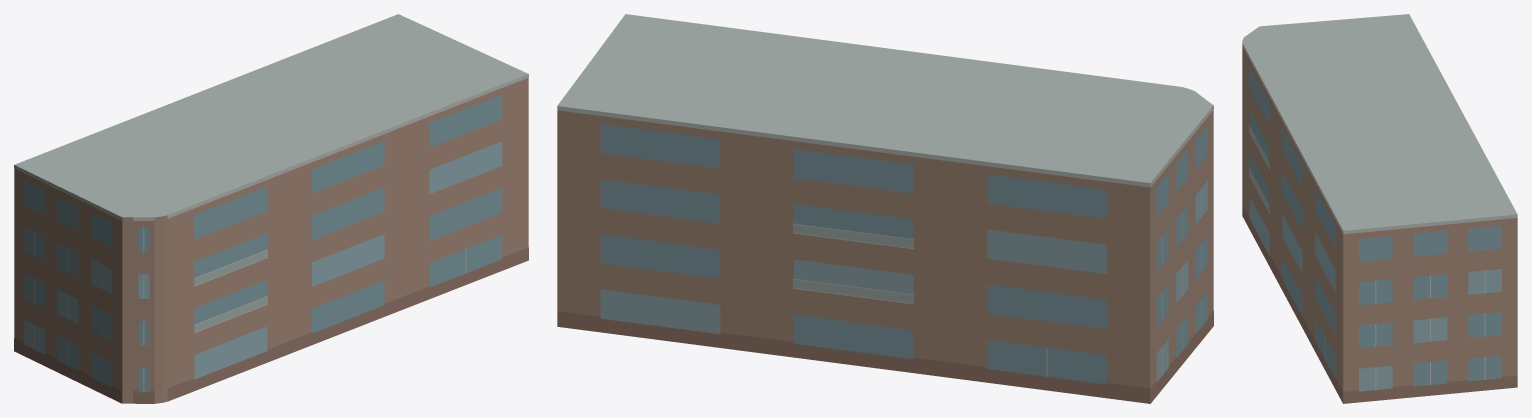
Rendered from survey-upis-33045731.glb.
3 renders of one model, left to right at view 1: azimuth 30°, elevation 25°; view 2: azimuth 150°, elevation 25°; view 3: azimuth 270°, elevation 25°, orthographic. The views are drawn at different scales.
Visible parts, largest first — view 1: survey-upis-33045731.tmp; view 2: survey-upis-33045731.tmp; view 3: survey-upis-33045731.tmp.
Boxes of the visible parts, x1=… form: survey-upis-33045731.tmp: x1=14, y1=14, x2=528, y2=403; survey-upis-33045731.tmp: x1=557, y1=14, x2=1213, y2=403; survey-upis-33045731.tmp: x1=1242, y1=14, x2=1517, y2=403.
Size of the model in its own units: 33.34 by 12.4 by 17.9.
